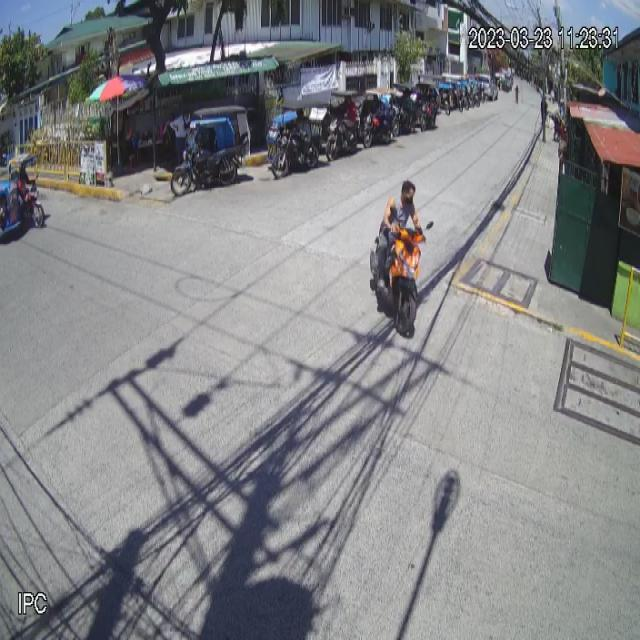Motorcycle: (368, 205, 435, 338)
Tricycle: (170, 106, 252, 197)
